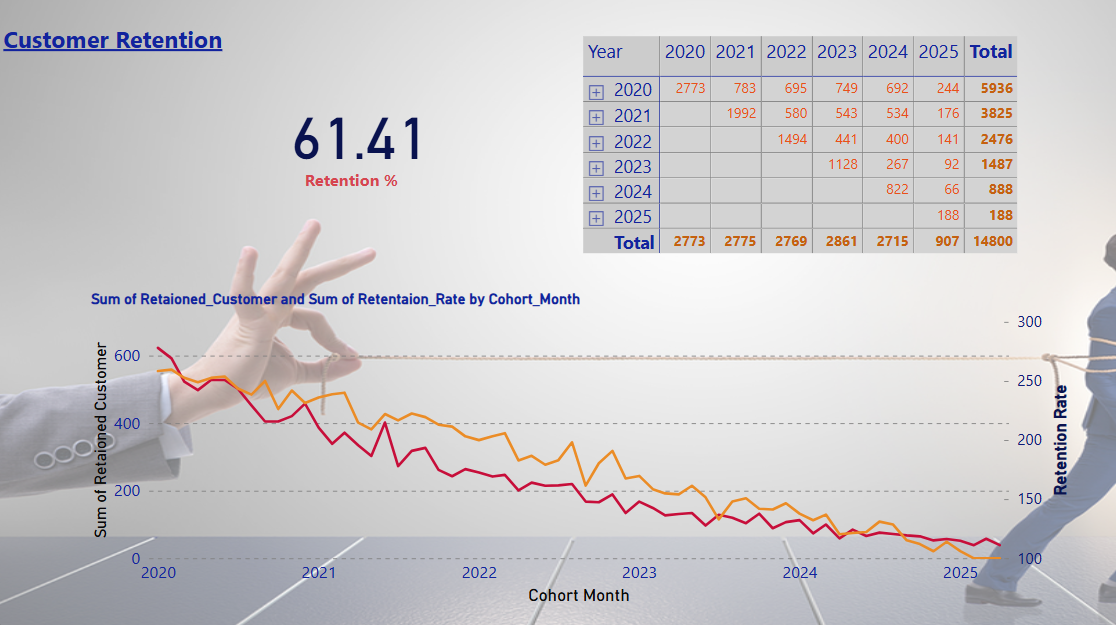

This screenshot's page, from the dashboard's own definition file:
{"tool":"powerbi","page":{"name":"Page 1","canvas":[1280,750],"ordinal":0},"visuals":[{"type":"pivotTable","fields":{"Rows":["Cohort Retention.cohort_month.Variation.Date Hierarchy.Year","Cohort Retention.cohort_month.Variation.Date Hierarchy.Quarter","Cohort Retention.cohort_month.Variation.Date Hierarchy.Month","Cohort Retention.cohort_month.Variation.Date Hierarchy.Day"],"Columns":["Cohort Retention.order_month.Variation.Date Hierarchy.Year","Cohort Retention.order_month.Variation.Date Hierarchy.Quarter","Cohort Retention.order_month.Variation.Date Hierarchy.Month","Cohort Retention.order_month.Variation.Date Hierarchy.Day"],"Values":["Sum(Cohort Retention.retationed_customer)"]},"box":[662.8,79.6,548.9,295],"z":0},{"type":"lineChart","title":"Sum of Retaioned_Customer and Sum of Retentaion_Rate by Cohort_Month","fields":{"Category":["Cohort Retention.cohort_month"],"Y":["Sum(Cohort Retention.retationed_customer)"],"Y2":["Sum(Customer retention cohorts Table.retation_rate)"]},"box":[100.2,374.6,1126.6,365],"z":1},{"type":"cardVisual","fields":{"Data":["Cohort Retention.Retention %"]},"box":[315.6,94.7,236,205.8],"z":2},{"type":"textbox","box":[0,64.5,477.5,59],"z":3},{"type":"textbox","box":[344.4,231.9,133.1,41.2],"z":4}]}

Visuals, with their boxes on the page's 1280x750 design canvas (x1, y1, x2, y2). These are canvas units, not pixel positions in the 1116x625 screenshot, which may show the page scaled, cropped or inside an application window:
pivotTable - Cohort Retention.cohort_month.Variation.Date Hierarchy.Year x Cohort Retention.cohort_month.Variation.Date Hierarchy.Quarter: 663,80,1212,375
"Sum of Retaioned_Customer and Sum of Retentaion_Rate by Cohort_Month" lineChart: 100,375,1227,740
cardVisual - Cohort Retention.Retention %: 316,95,552,300
textbox: 0,64,478,124
textbox: 344,232,478,273
